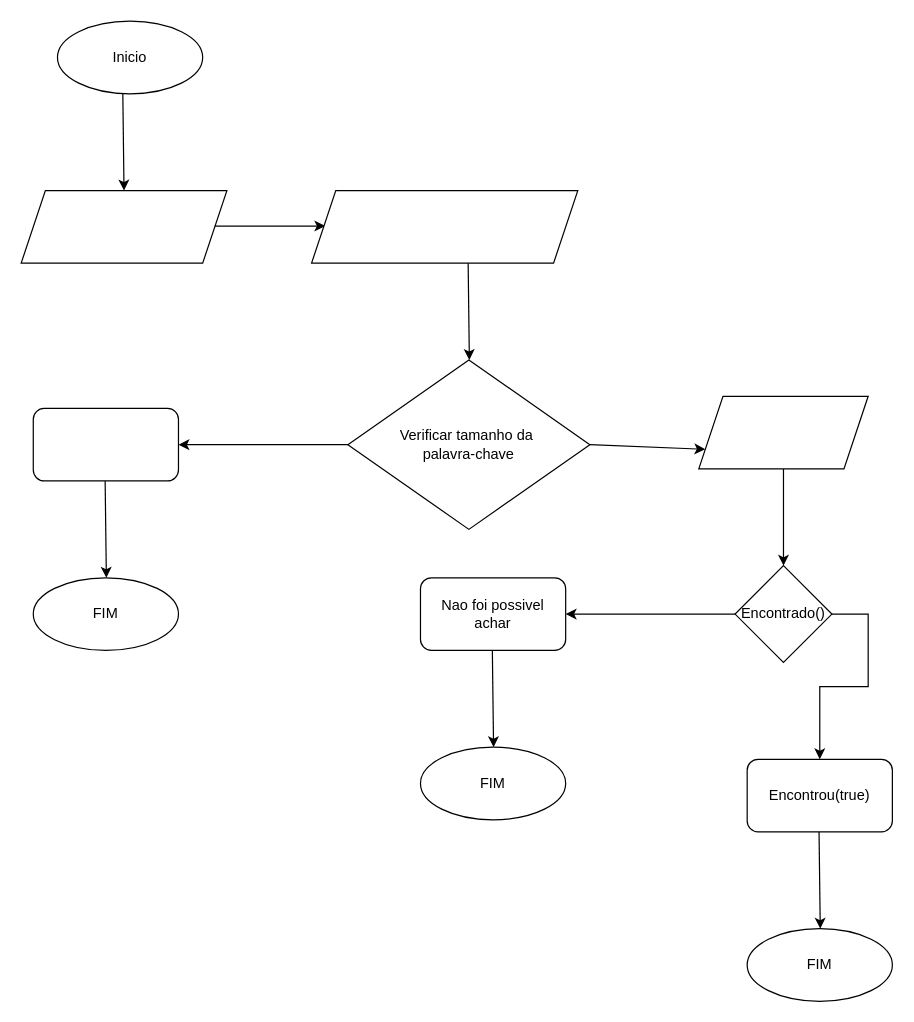
Image size: 914x1022. Some labels were removed from this diagram. Each missing label, with the centre of its shape:
Definir Palavra-Chave: the point at 123,226
Definir texto de Busca: the point at 444,226
Encerrar o programa: the point at 105,444
Metodo encontrarSelect(): the point at 783,432
